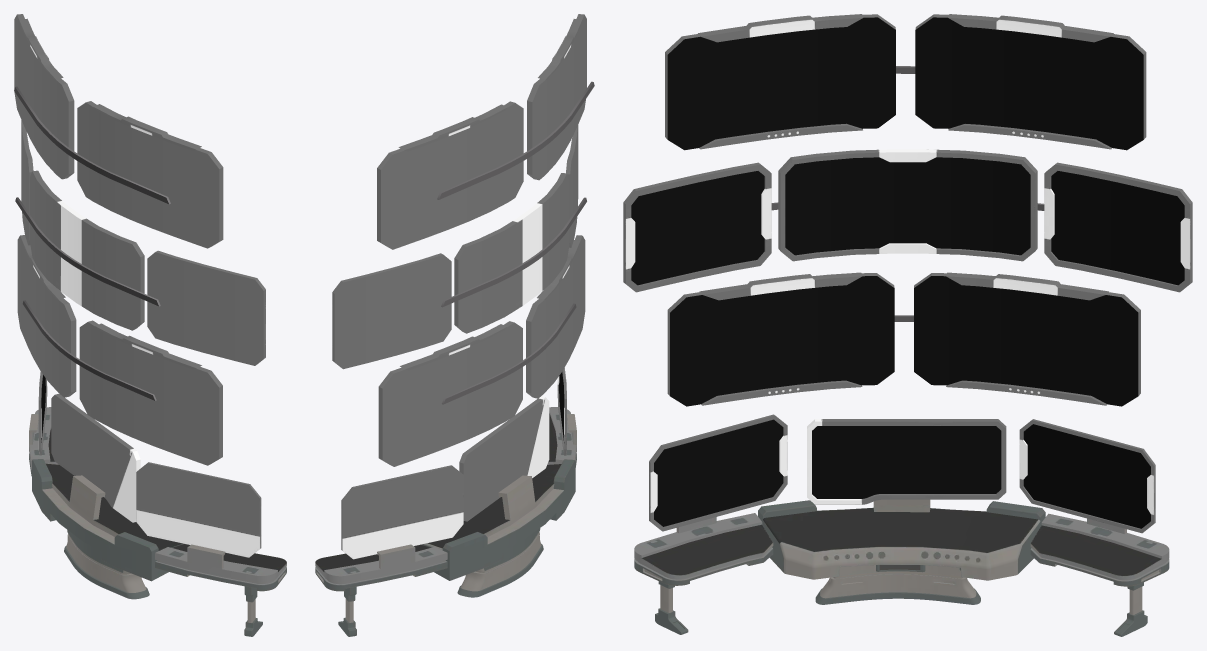
The model's file is MultyDisplay-transformed.glb.
3 renders of one model, left to right at view 1: azimuth 30°, elevation 25°; view 2: azimuth 150°, elevation 25°; view 3: azimuth 270°, elevation 25°, orthographic. The views are drawn at different scales.
Parts seen in each view (by area): view 1: Plane.001_low.003, Plane.001_low, Plane_low, Display_mid_center, Mesh105.005_low, Central_low, Cube.002_low, Plane.001_low.004, Plane.001_low.002, Side_panel_low, Body_low, Part_1.004 (+10 smaller); view 2: Plane.001_low.004, Plane.001_low.002, Plane_low.003, Display_mid_center, Mesh105.006_low, Central_low, Cube.002_low, Plane.001_low, Plane.001_low.003, Side_panel_low.001, Body_low, Part_1.004 (+10 smaller); view 3: Display_high_right.001, Display_high_left.001, Display_high_left, Display_high_right, Display_mid_center.001, Central_low, Display_down_centre, Display_Mid_left, Display_mid_right, Display_down_left, Display_down_right, Side_panel_low (+17 smaller).
Part boxes in pixels (x1,y1,x2,y2): Plane.001_low.003: (77,101,223,248); Plane.001_low: (79,320,222,465); Plane_low: (147,250,265,365); Display_mid_center: (30,170,144,330); Mesh105.005_low: (136,462,261,557); Central_low: (32,459,183,581); Cube.002_low: (51,393,140,522); Plane.001_low.004: (14,14,74,179); Plane.001_low.002: (17,235,76,397); Side_panel_low: (155,544,286,591); Body_low: (66,530,146,592); Part_1.004: (14,86,170,204); Plane.001_low.004: (377,101,523,249); Plane.001_low.002: (378,321,522,466); Plane_low.003: (332,253,451,369); Display_mid_center: (454,173,569,333); Mesh105.006_low: (341,465,463,559); Central_low: (421,459,575,580); Cube.002_low: (459,396,549,521); Plane.001_low: (526,235,585,398); Plane.001_low.003: (527,14,586,180); Side_panel_low.001: (315,544,447,591); Body_low: (460,528,541,591); Part_1.004: (437,81,594,199); Display_high_right.001: (915,17,1143,150); Display_high_left.001: (667,17,895,150); Display_high_left: (670,276,894,406); Display_high_right: (914,276,1138,406); Display_mid_center.001: (785,157,1030,255); Central_low: (758,499,1045,580); Display_down_centre: (812,426,1001,498); Display_Mid_left: (631,171,764,285); Display_mid_right: (1051,171,1184,285); Display_down_left: (654,419,783,526); Display_down_right: (1023,424,1150,528); Side_panel_low: (634,513,773,585).
Size of the model in its own units: 1.21 by 4.47 by 4.03.
4 materials, 2 textured.
